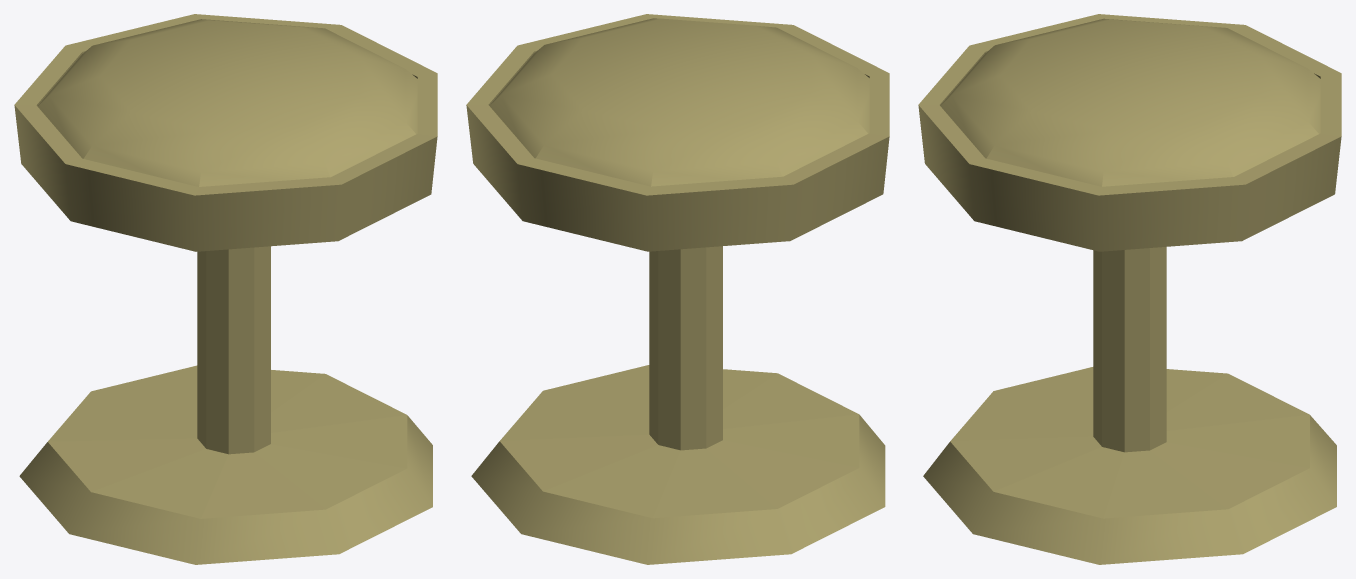
File: Silla.fbx
3 renders of one model, left to right at view 1: azimuth 30°, elevation 25°; view 2: azimuth 150°, elevation 25°; view 3: azimuth 270°, elevation 25°, orthographic.
Visible parts, largest first — view 1: Base_low, Cushion_low; view 2: Base_low, Cushion_low; view 3: Base_low, Cushion_low.
Part boxes in pixels (left/top/right/bottom): Base_low: left=14, top=14, right=437, bottom=564; Cushion_low: left=37, top=19, right=417, bottom=186; Base_low: left=466, top=14, right=889, bottom=564; Cushion_low: left=489, top=18, right=869, bottom=186; Base_low: left=918, top=14, right=1341, bottom=564; Cushion_low: left=940, top=18, right=1320, bottom=186.
Size of the model in its own units: 35.8 by 37.01 by 35.26.
